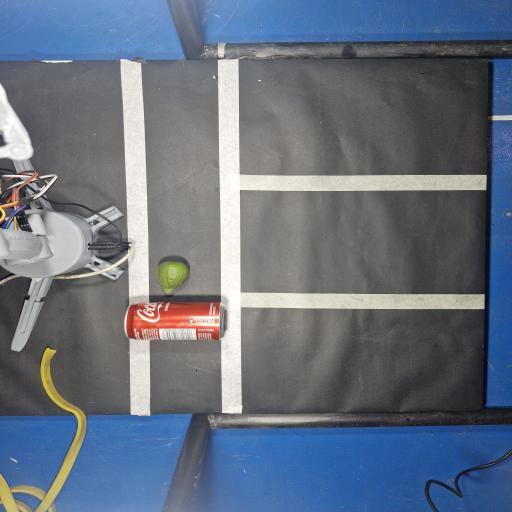higo: (157, 261, 189, 293)
lata: (125, 302, 226, 340)
